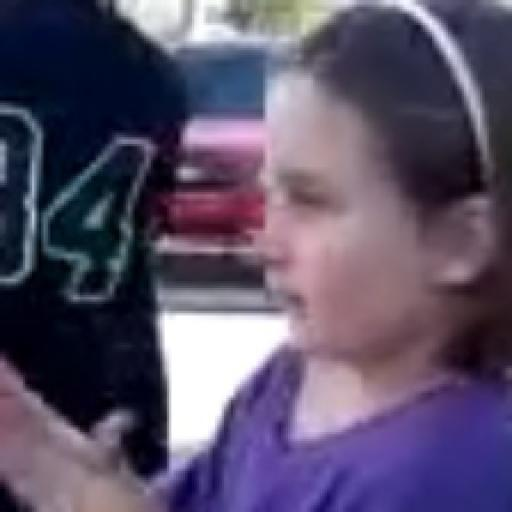Autism: (243, 29, 512, 409)
